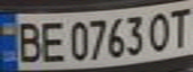0: (66, 17, 90, 62)
3: (124, 11, 148, 56)
6: (106, 13, 127, 60)
7: (87, 16, 109, 61)
B: (9, 18, 45, 64)
E: (36, 17, 66, 64)
O: (145, 8, 175, 52)
T: (163, 3, 193, 48)
